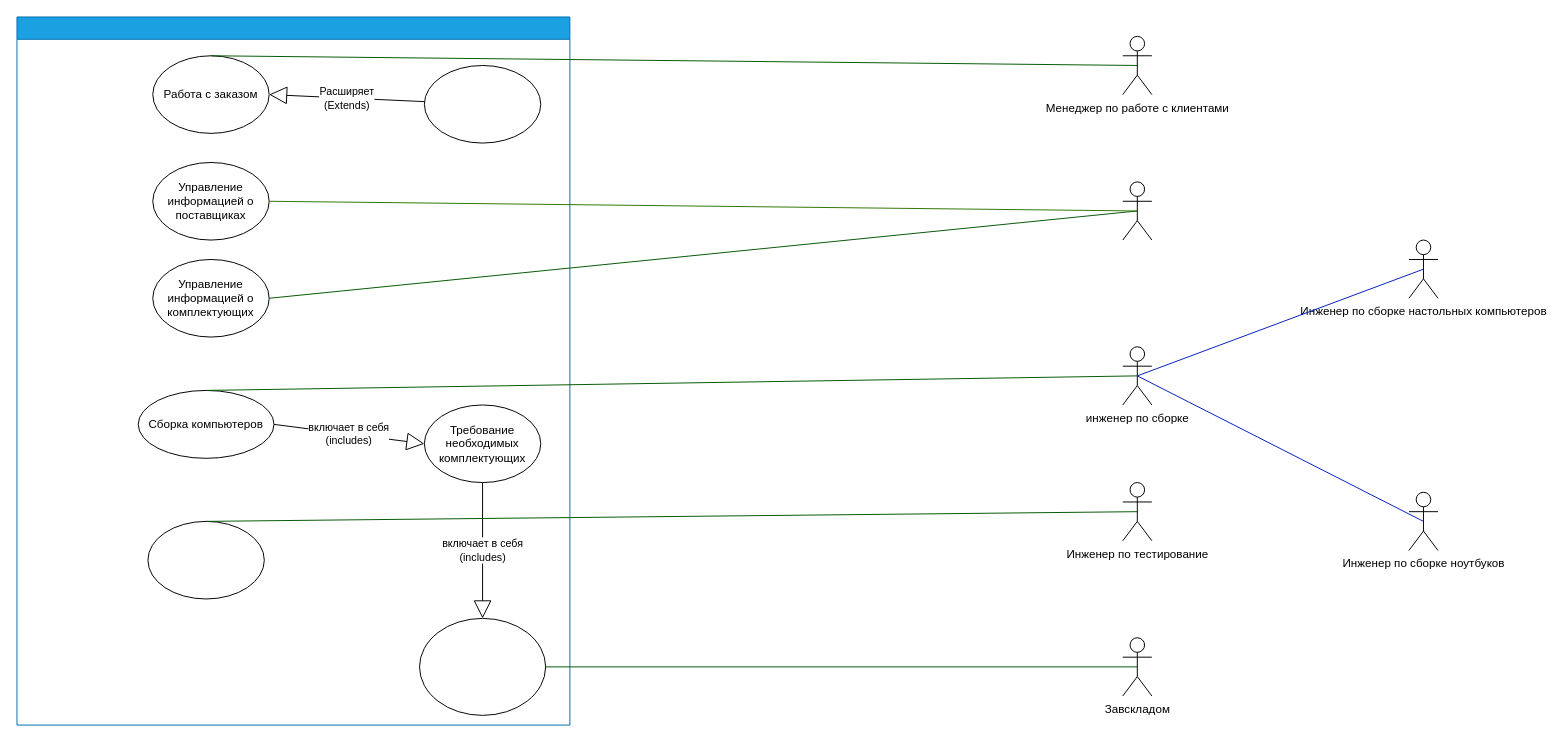
Image size: 1564x742. Some labels were removed from this diagram. Here are the shapes that lost their labels. From the top down, the box of each, then its label:
(423, 65, 541, 143): Управление информацией о клиенте
(1122, 181, 1152, 240): Менеджер по снабжению
(16, 16, 570, 725): «Предприятие по сборке и продаже компьютеров»
(147, 520, 264, 599): Тестирование (компьютера)
(419, 617, 546, 715): Учет поступления и выдачи комплектующих
